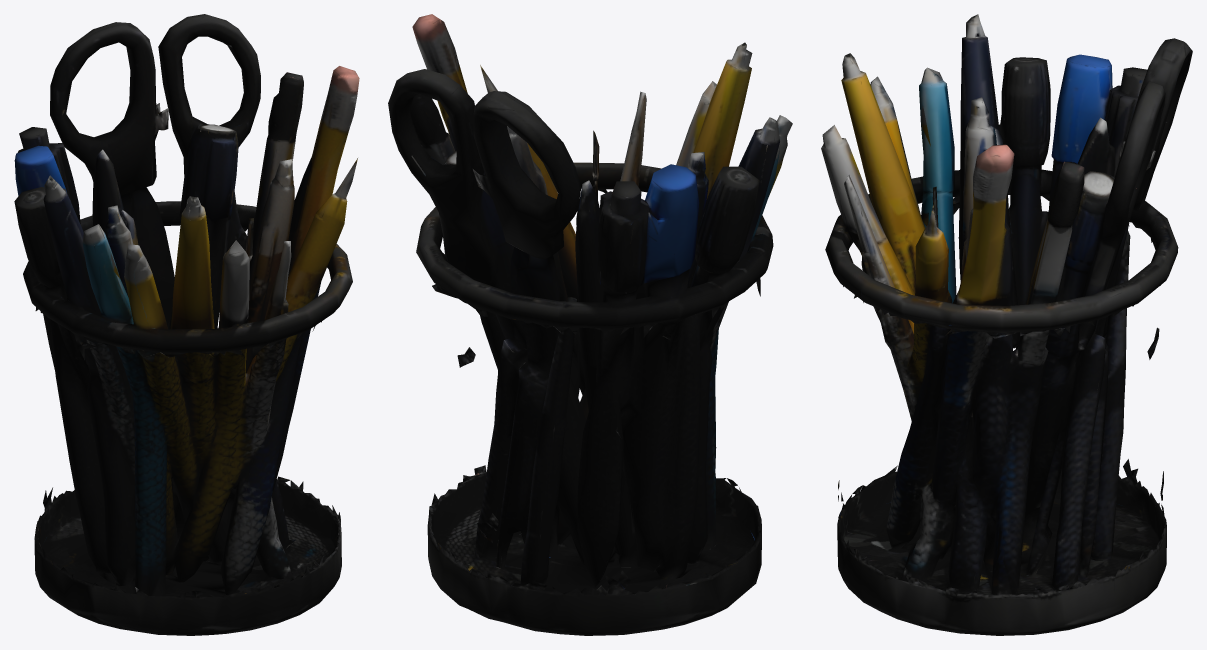
Rendered from kalemlikbake.fbx.
The picture shows the model from 3 angles, left to right: view 1: azimuth 30°, elevation 25°; view 2: azimuth 150°, elevation 25°; view 3: azimuth 270°, elevation 25°; orthographic projection. The views are drawn at different scales.
Visible parts, largest first — view 1: kalemlik_low; view 2: kalemlik_low; view 3: kalemlik_low.
Part boxes in pixels (x1,y1,x2,y2): kalemlik_low: (14, 14, 359, 635); kalemlik_low: (388, 14, 792, 635); kalemlik_low: (821, 14, 1192, 635).
Bounding box in the file's own units: 1.33 × 1.91 × 1.22.
